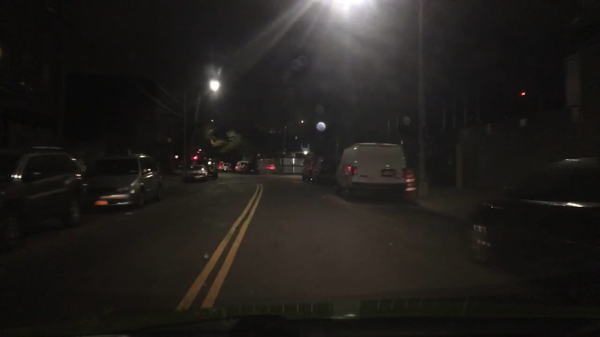car: (469, 162, 599, 289), (1, 146, 91, 241), (332, 141, 407, 203), (85, 155, 164, 212), (310, 156, 340, 186), (301, 155, 319, 183), (197, 158, 219, 179), (186, 164, 208, 182), (239, 163, 258, 175), (234, 161, 250, 173), (221, 162, 231, 172), (226, 165, 235, 173), (178, 161, 186, 170)
traffic light: (193, 155, 198, 161)
traffic sign: (563, 53, 581, 107), (571, 107, 580, 124)
